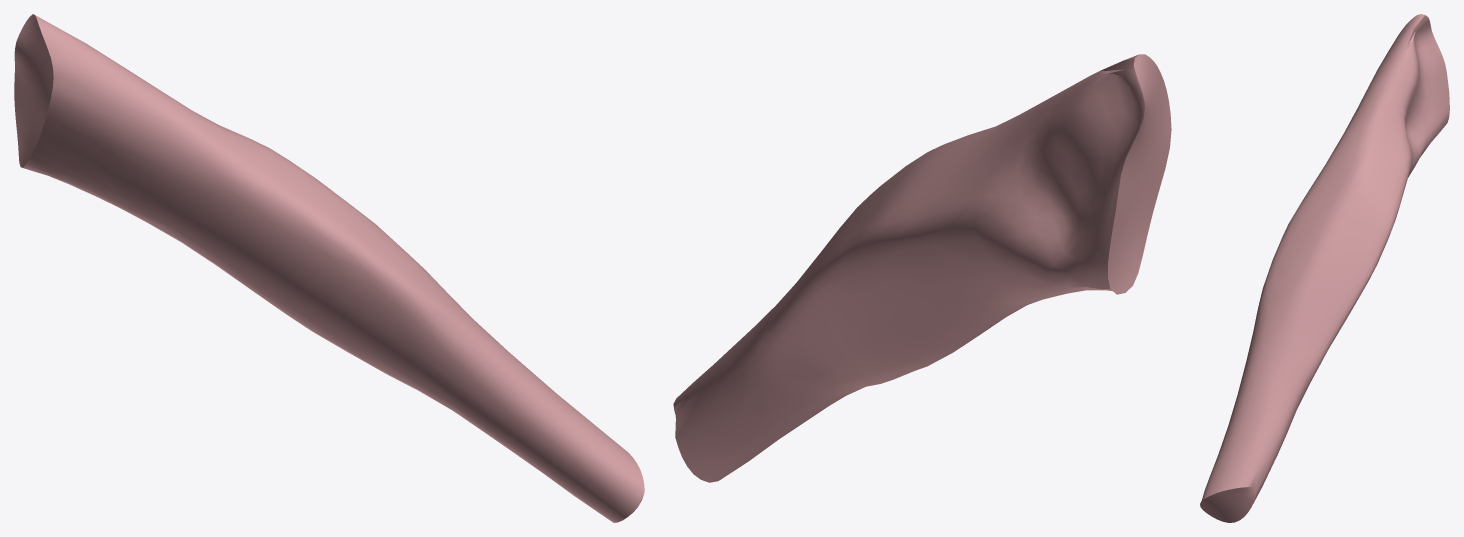
Rendered from fma65235_mm1956m.glb.
The picture shows the model from 3 angles, left to right: view 1: azimuth 30°, elevation 25°; view 2: azimuth 150°, elevation 25°; view 3: azimuth 270°, elevation 25°; orthographic projection. The views are drawn at different scales.
Parts seen in each view (by area): view 1: FMA65235_MM1956M; view 2: FMA65235_MM1956M; view 3: FMA65235_MM1956M.
Part boxes in pixels (x1,y1,x2,y2): FMA65235_MM1956M: (14,14,644,522); FMA65235_MM1956M: (673,54,1171,482); FMA65235_MM1956M: (1200,14,1449,522).
Bounding box in the file's own units: 0.0289 × 0.03 × 0.0189.
